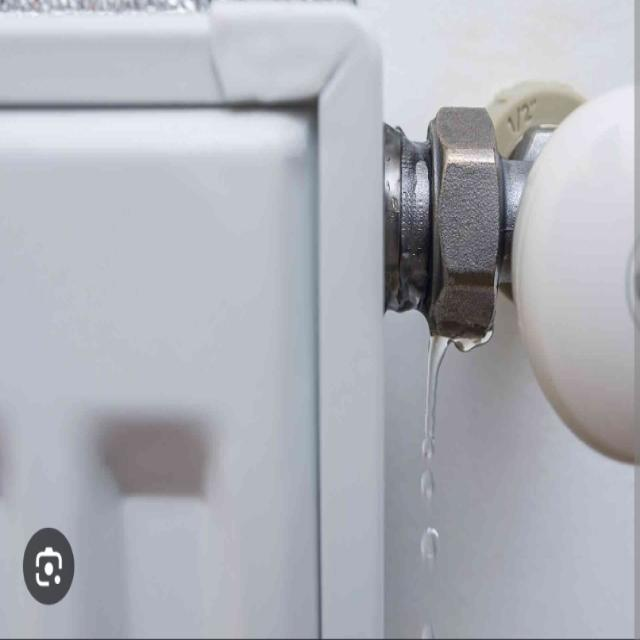leaking_radiator: (364, 227, 536, 640)
